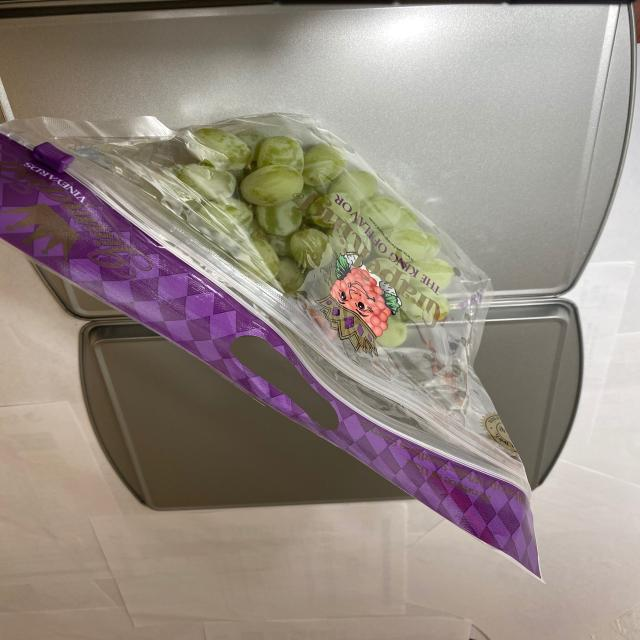grapes: (160, 109, 455, 362)
